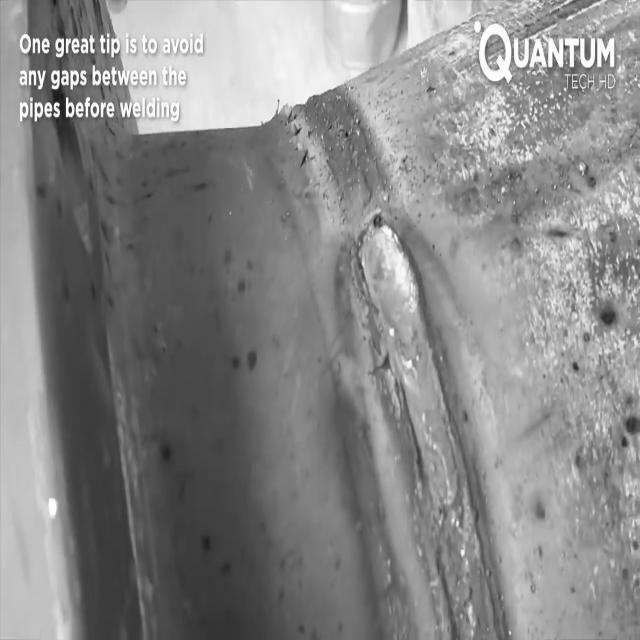Good Weld: (349, 209, 467, 488)
